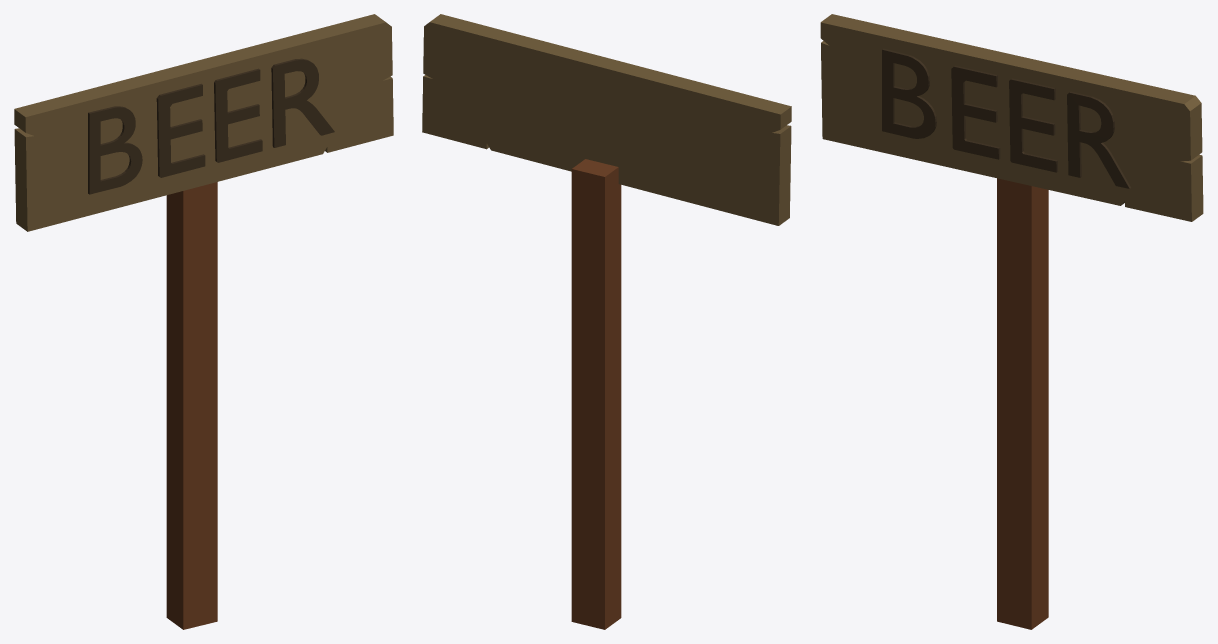
The model's file is Banner_6.fbx.
The picture shows the model from 3 angles, left to right: view 1: azimuth 30°, elevation 25°; view 2: azimuth 150°, elevation 25°; view 3: azimuth 330°, elevation 25°; orthographic projection. The views are drawn at different scales.
Parts seen in each view (by area): view 1: Banner_6; view 2: Banner_6; view 3: Banner_6.
Part boxes in pixels (box(x1,y1,x2,y2)): Banner_6: box(14, 14, 393, 629); Banner_6: box(422, 14, 791, 629); Banner_6: box(820, 14, 1203, 629).
Size of the model in its own units: 95.99 by 141 by 12.21.
